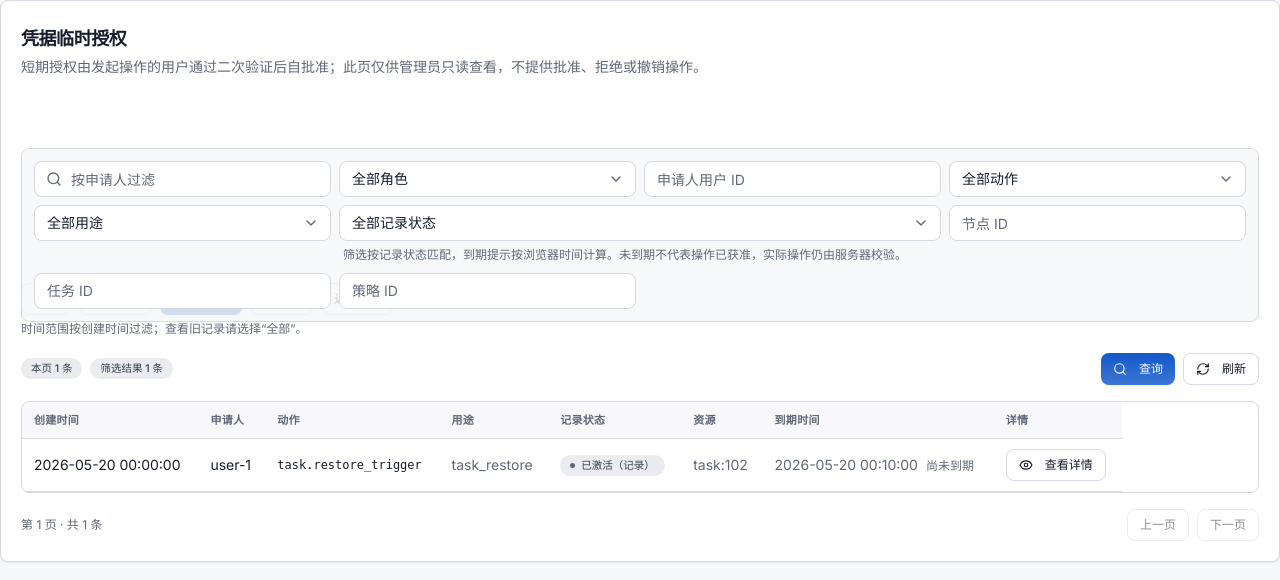
Scenario: CredentialAccessGrantsPage › 失败与迟到结果 › 后续普通失败不沿用上一查询的数据
Expected: the text "user-1" is shown, [198,438,265,491]
Select "已过期" in the dropdown named "按记录状态过滤": point(640, 223) [339,205,941,241]
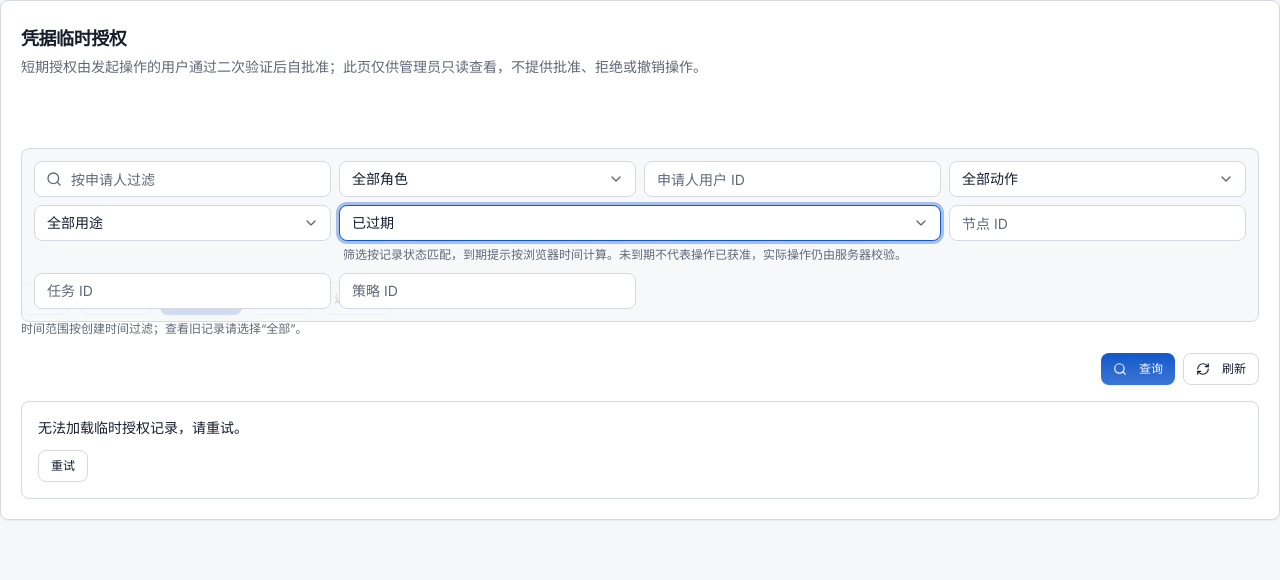
Result: the message reads "无法加载临时授权记录，请重试。" at [38,418,248,436]
Result: the text "user-1" is not shown
Result: the text "本页 1 条" is not shown
